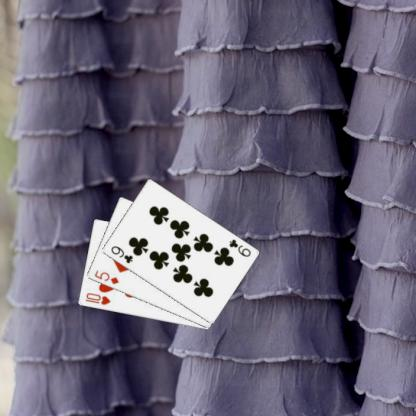10H: (82, 290, 112, 307)
5D: (92, 268, 120, 285)
9C: (108, 243, 134, 265), (226, 236, 252, 258)
